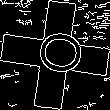O_W: (26, 30, 84, 80)
